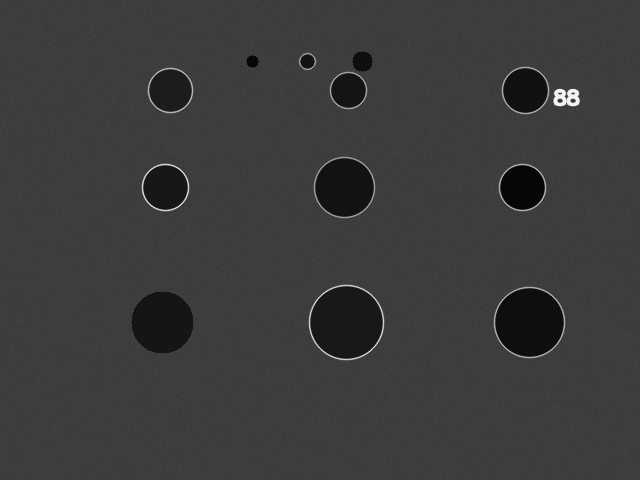hole: (309, 285, 383, 359), (494, 287, 564, 357), (131, 291, 193, 353), (314, 157, 374, 217), (502, 67, 548, 113), (142, 164, 188, 210), (499, 164, 545, 210), (148, 68, 192, 112), (330, 72, 366, 108), (352, 51, 372, 71), (299, 53, 315, 69), (246, 55, 258, 67)
